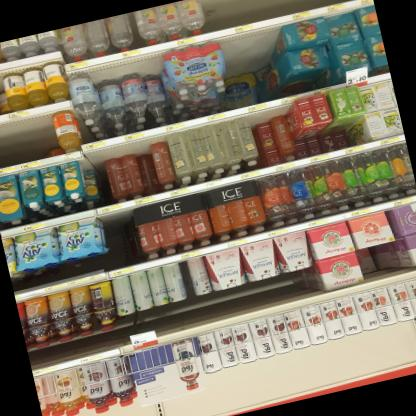empty_space: (218, 30, 283, 102), (95, 133, 153, 166), (106, 210, 143, 259), (0, 118, 37, 166), (203, 0, 252, 29), (252, 102, 295, 126), (34, 112, 58, 154), (253, 0, 299, 16)
